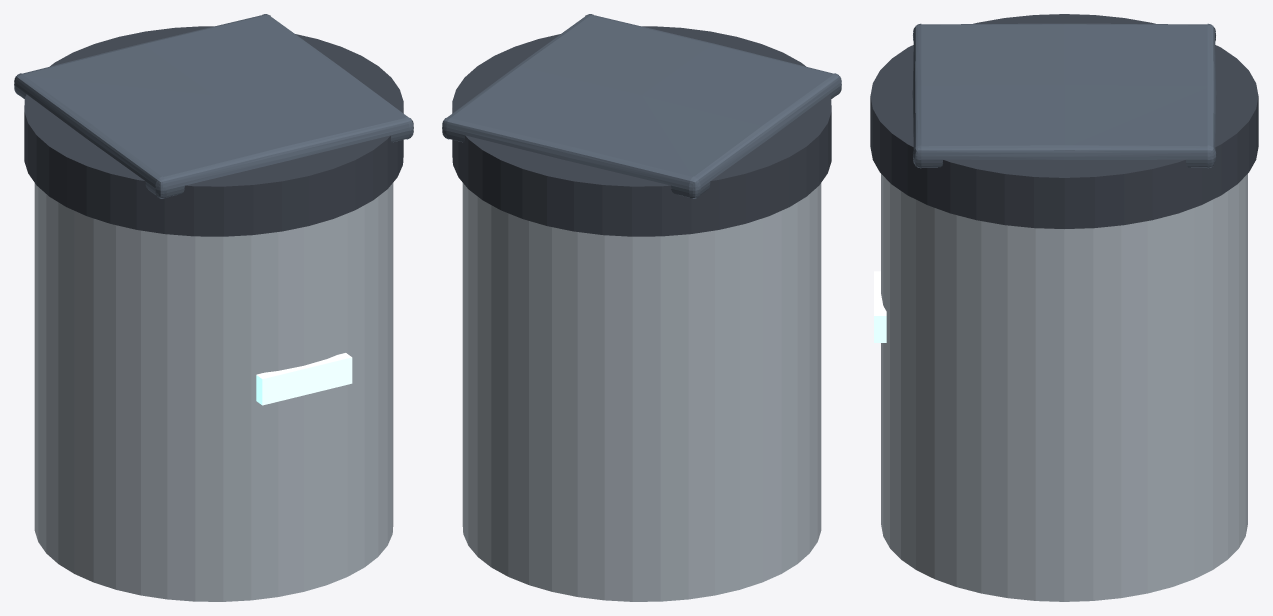
The model's file is 35_PS_SmartMinimalDustbin.fbx.
The picture shows the model from 3 angles, left to right: view 1: azimuth 30°, elevation 25°; view 2: azimuth 150°, elevation 25°; view 3: azimuth 270°, elevation 25°; orthographic projection. The views are drawn at different scales.
Visible parts, largest first — view 1: PS_SmartMinimalDustbin; view 2: PS_SmartMinimalDustbin; view 3: PS_SmartMinimalDustbin.
Part boxes in pixels (bbox=[...]): PS_SmartMinimalDustbin: bbox=[14, 14, 413, 601]; PS_SmartMinimalDustbin: bbox=[442, 14, 841, 601]; PS_SmartMinimalDustbin: bbox=[870, 14, 1258, 601].
Bounding box in the file's own units: 55 × 68.75 × 55.
